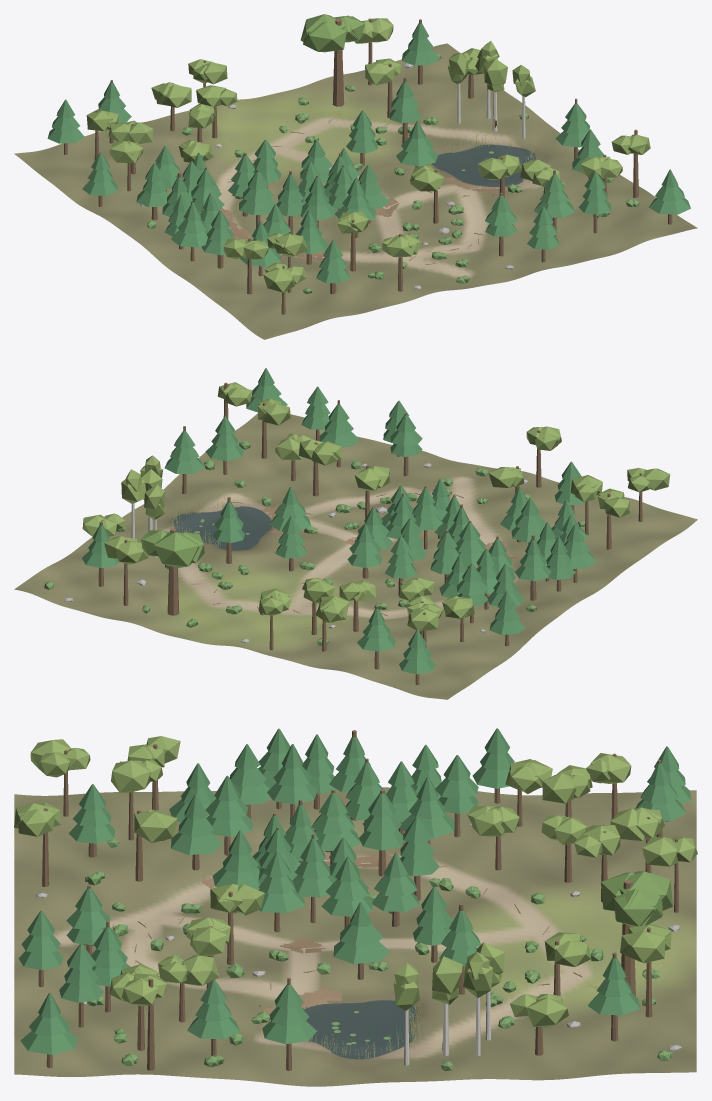
Rendered from forest_v02.glb.
3 renders of one model, top to bottom at view 1: azimuth 30°, elevation 25°; view 2: azimuth 150°, elevation 25°; view 3: azimuth 270°, elevation 25°, orthographic. The views are drawn at different scales.
Visible parts, largest first — view 1: Terrain.001, Tree_Oak, Pond, Tree_49, Tree_55, Tree_12.001, Tree_44, Tree_20.001, Tree_42, Tree_31, Tree_43, Tree_25.001 (+49 smaller); view 2: Terrain.001, Tree_Oak, Pond, Tree_22.001, Tree_30, Tree_24.001, Tree_01.001, Tree_47, Tree_31, Tree_37, Tree_42, Tree_04.001 (+43 smaller); view 3: Terrain.001, Pond, Tree_Oak, Tree_22.001, Tree_12.001, Tree_55, Tree_20.001, Tree_30, Tree_23.001, Tree_08.001, Tree_21.001, Tree_01.001 (+57 smaller).
Part boxes in pixels (<box>): Terrain.001: <box>14,43,697,339</box>; Tree_Oak: <box>300,14,365,106</box>; Pond: <box>432,144,535,186</box>; Tree_49: <box>239,169,275,227</box>; Tree_55: <box>648,169,690,224</box>; Tree_12.001: <box>396,121,438,167</box>; Tree_44: <box>171,202,208,261</box>; Tree_20.001: <box>402,19,439,84</box>; Tree_42: <box>534,170,574,236</box>; Tree_31: <box>485,193,517,256</box>; Tree_43: <box>263,262,306,314</box>; Tree_25.001: <box>223,238,268,294</box>; Terrain.001: <box>14,413,697,699</box>; Tree_Oak: <box>140,528,204,615</box>; Pond: <box>173,506,272,550</box>; Tree_22.001: <box>164,426,204,493</box>; Tree_30: <box>104,536,148,605</box>; Tree_24.001: <box>357,606,395,669</box>; Tree_01.001: <box>205,416,243,474</box>; Tree_47: <box>298,439,341,496</box>; Tree_31: <box>390,412,422,476</box>; Tree_37: <box>515,534,550,600</box>; Tree_42: <box>319,400,359,467</box>; Tree_04.001: <box>347,524,382,578</box>; Terrain.001: <box>14,787,696,1086</box>; Pond: <box>302,1000,416,1059</box>; Tree_Oak: <box>600,871,672,996</box>; Tree_22.001: <box>262,977,316,1070</box>; Tree_12.001: <box>333,902,389,979</box>; Tree_55: <box>20,992,77,1067</box>; Tree_20.001: <box>587,952,640,1041</box>; Tree_30: <box>620,924,671,1017</box>; Tree_23.001: <box>359,789,403,876</box>; Tree_08.001: <box>205,775,253,855</box>; Tree_21.001: <box>171,794,222,870</box>; Tree_01.001: <box>187,979,239,1055</box>.
Size of the model in its own units: 40.48 by 8.21 by 40.1.
